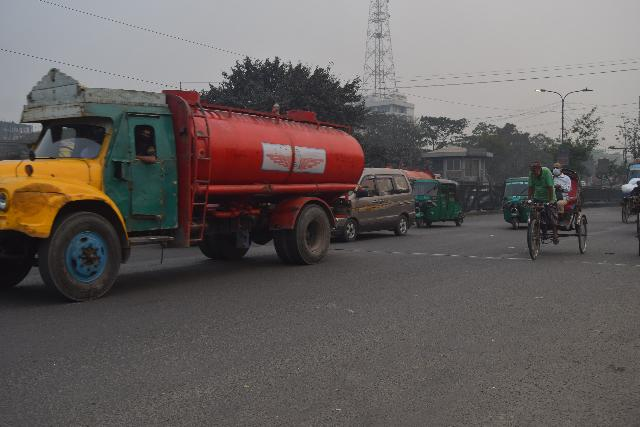truck: (0, 60, 368, 310)
van: (338, 154, 417, 242)
